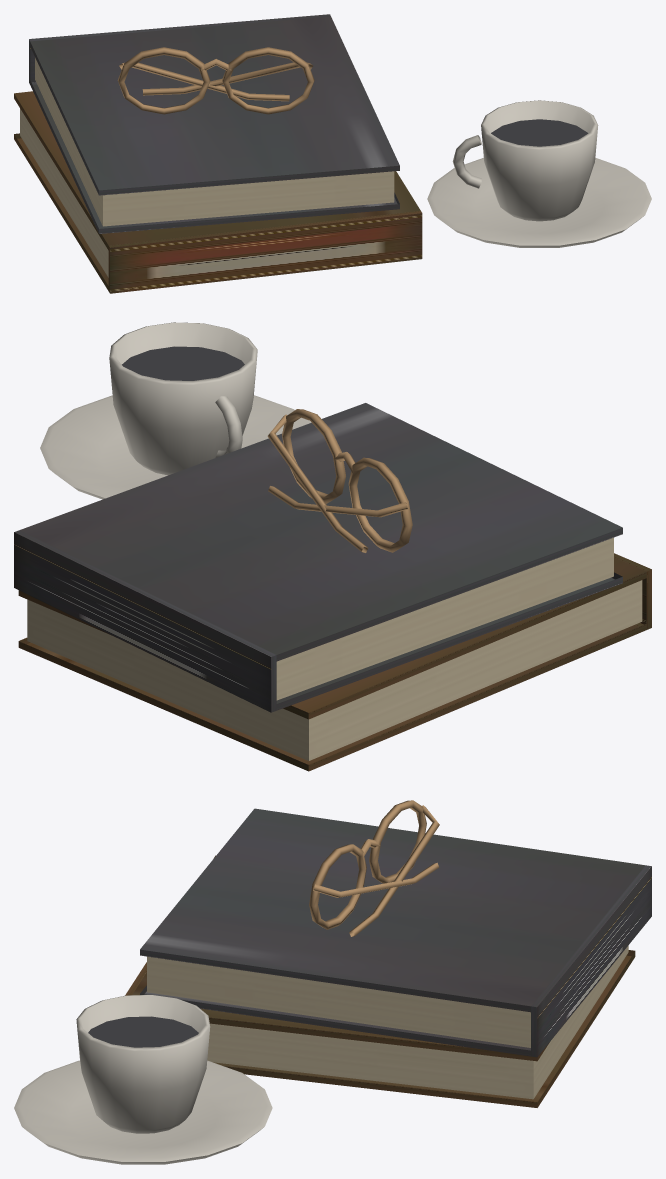
File: decor_c_cup_book.gltf
3 views of the same model, one above another, from view 1: azimuth 30°, elevation 25°; view 2: azimuth 150°, elevation 25°; view 3: azimuth 270°, elevation 25° (orthographic). The views are drawn at different scales.
Visible parts, largest first — view 1: DecorC_CupBook_Book02_Spines_NoCollide, DecorC_CupBook_Book01_Spines_NoCollide, DecorC_CupBook_Cup01_Glaze_NoCollide, DecorC_CupBook_Spectacles01_Bronze_NoCollide, DecorC_CupBook_Cup01_Charcoal_NoCollide; view 2: DecorC_CupBook_Book02_Spines_NoCollide, DecorC_CupBook_Book01_Spines_NoCollide, DecorC_CupBook_Cup01_Glaze_NoCollide, DecorC_CupBook_Spectacles01_Bronze_NoCollide, DecorC_CupBook_Cup01_Charcoal_NoCollide; view 3: DecorC_CupBook_Book02_Spines_NoCollide, DecorC_CupBook_Cup01_Glaze_NoCollide, DecorC_CupBook_Book01_Spines_NoCollide, DecorC_CupBook_Spectacles01_Bronze_NoCollide, DecorC_CupBook_Cup01_Charcoal_NoCollide.
Boxes of the visible parts, x1=… form: DecorC_CupBook_Book02_Spines_NoCollide: x1=29, y1=14, x2=399, y2=233; DecorC_CupBook_Book01_Spines_NoCollide: x1=14, y1=91, x2=422, y2=293; DecorC_CupBook_Cup01_Glaze_NoCollide: x1=427, y1=100, x2=651, y2=247; DecorC_CupBook_Spectacles01_Bronze_NoCollide: x1=117, y1=47, x2=314, y2=114; DecorC_CupBook_Cup01_Charcoal_NoCollide: x1=491, y1=119, x2=588, y2=146; DecorC_CupBook_Book02_Spines_NoCollide: x1=14, y1=403, x2=622, y2=712; DecorC_CupBook_Book01_Spines_NoCollide: x1=18, y1=553, x2=651, y2=771; DecorC_CupBook_Cup01_Glaze_NoCollide: x1=40, y1=322, x2=311, y2=499; DecorC_CupBook_Spectacles01_Bronze_NoCollide: x1=267, y1=409, x2=412, y2=552; DecorC_CupBook_Cup01_Charcoal_NoCollide: x1=122, y1=346, x2=244, y2=380; DecorC_CupBook_Book02_Spines_NoCollide: x1=140, y1=808, x2=651, y2=1057; DecorC_CupBook_Cup01_Glaze_NoCollide: x1=14, y1=995, x2=272, y2=1164; DecorC_CupBook_Book01_Spines_NoCollide: x1=125, y1=855, x2=635, y2=1107; DecorC_CupBook_Spectacles01_Bronze_NoCollide: x1=309, y1=800, x2=439, y2=936; DecorC_CupBook_Cup01_Charcoal_NoCollide: x1=88, y1=1016, x2=198, y2=1047.
Size of the model in its own units: 0.3502 by 0.1051 by 0.3404.
Materials: 4 (1 with a texture image).
